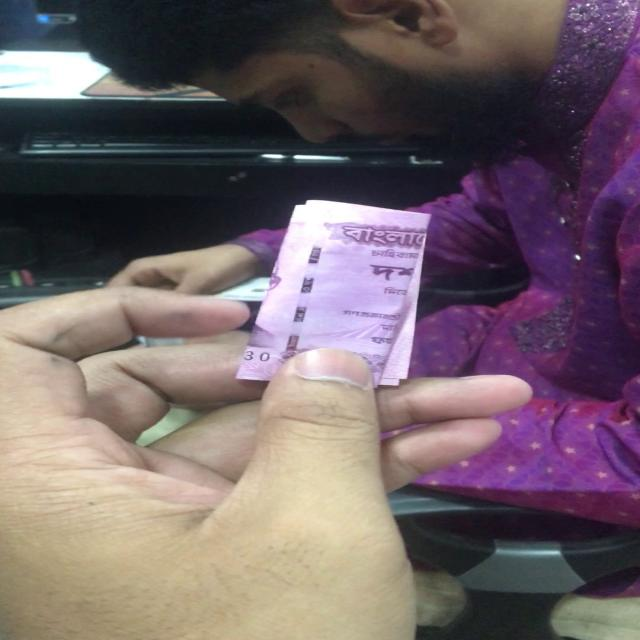Taka: (254, 197, 438, 394)
